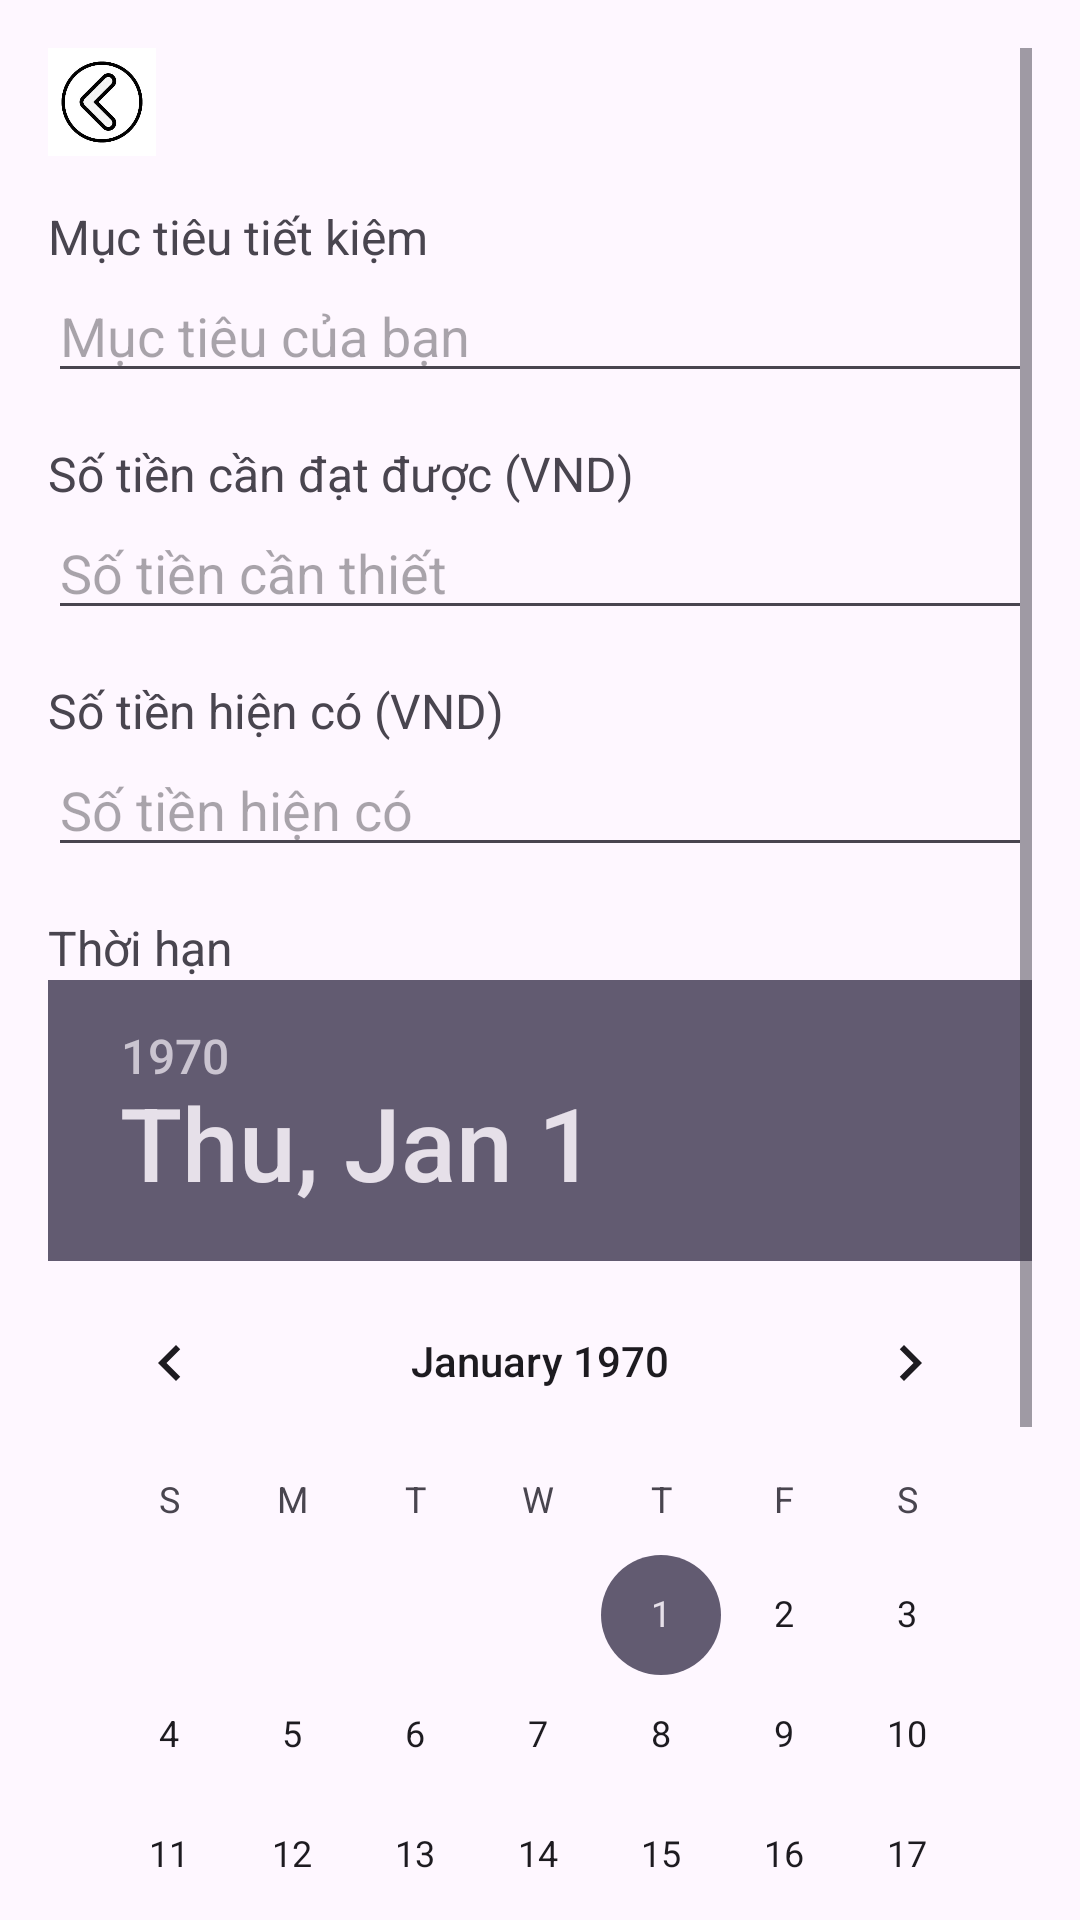

Point at icon controls on the screen. Image size 1080px x 1920px, points as point (x, y).
Quay lại: point (102, 102)
